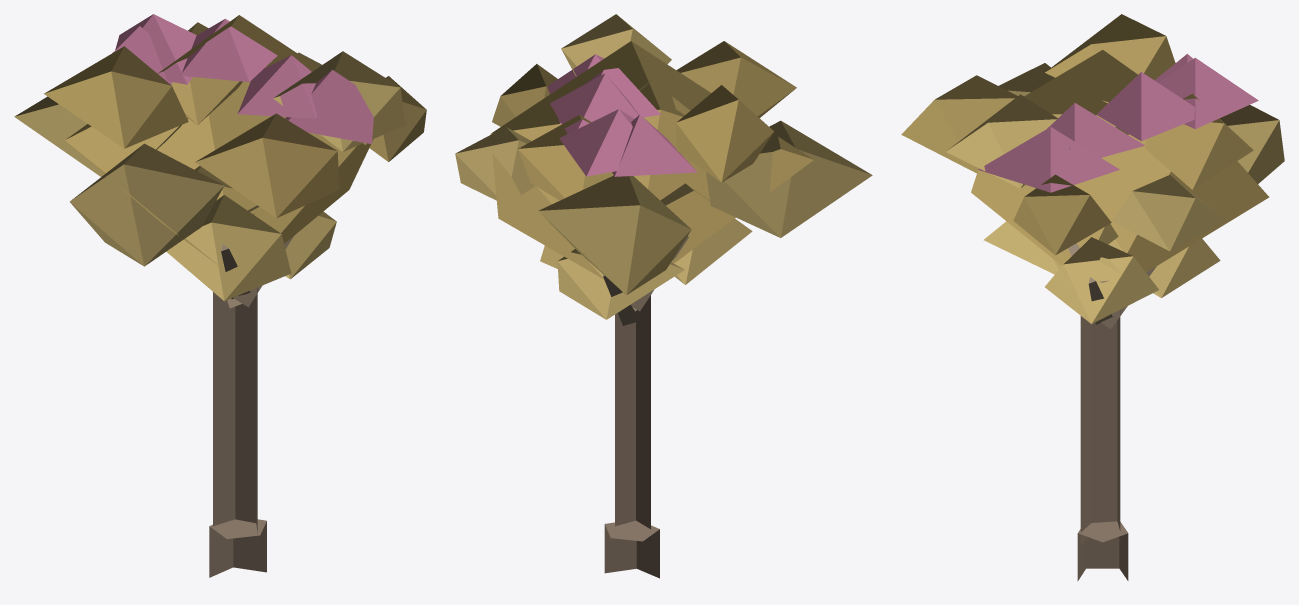
The model's file is tree.sub.paulownia__autumn.glb.
3 views of the same model, side by side, from view 1: azimuth 30°, elevation 25°; view 2: azimuth 150°, elevation 25°; view 3: azimuth 270°, elevation 25° (orthographic). The views are drawn at different scales.
Visible parts, largest first — view 1: tree.sub.paulownia__autumn; view 2: tree.sub.paulownia__autumn; view 3: tree.sub.paulownia__autumn.
Boxes of the visible parts, x1,y1,x2,y2 form: tree.sub.paulownia__autumn: (14, 14, 426, 577); tree.sub.paulownia__autumn: (455, 14, 872, 578); tree.sub.paulownia__autumn: (901, 14, 1284, 581).
Bounding box in the file's own units: 10.93 × 16.56 × 10.89.
